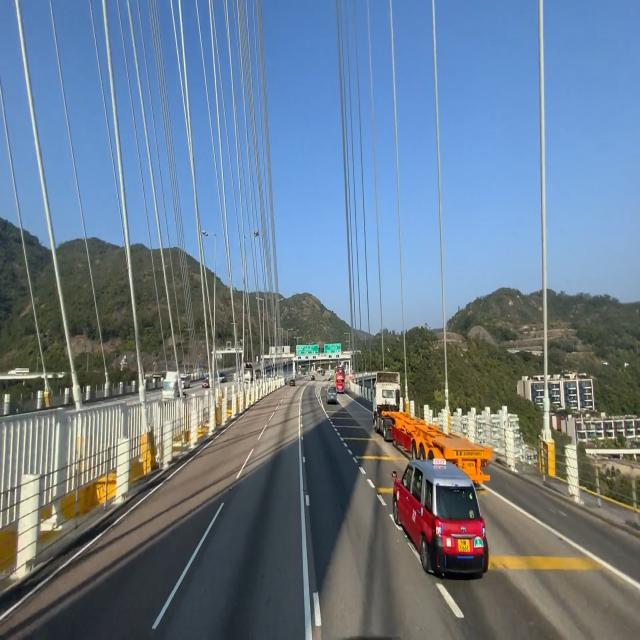Car: (372, 367, 492, 487), (385, 458, 489, 572)
